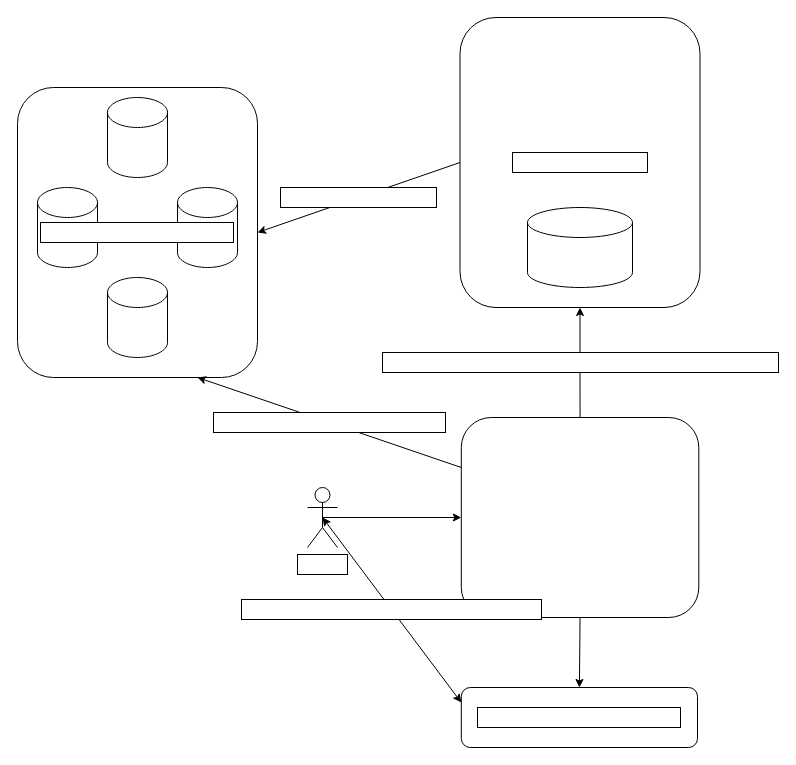
The diagram is 796 pixels wide and 765 high, and some of its shapes have lost their labels. Here are the shapes that lost their labels. From the top down, the centre of each, then its label:
the point at 579,247: Sqlite Db
the point at 579,517: React web app
